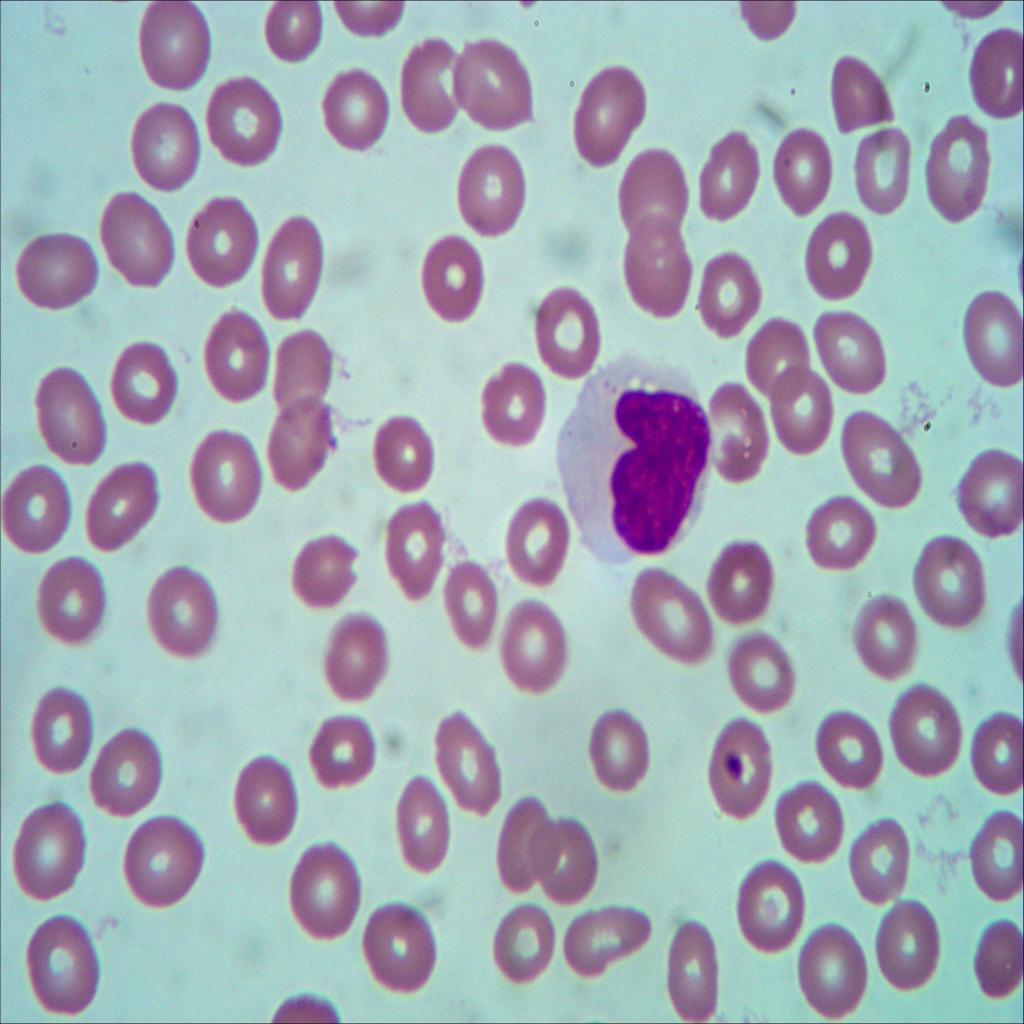Eritrosit: (828, 406, 936, 520), (566, 60, 655, 182), (441, 35, 538, 144), (424, 698, 509, 822), (618, 561, 717, 666), (183, 422, 274, 536), (354, 890, 443, 1006), (31, 355, 116, 471), (92, 186, 180, 298), (122, 0, 225, 95), (556, 904, 659, 999), (18, 916, 115, 1016), (197, 65, 284, 176), (899, 517, 989, 623), (690, 710, 778, 818), (448, 141, 533, 252), (781, 918, 869, 1024), (794, 202, 888, 298), (704, 536, 781, 652), (122, 97, 207, 201), (78, 456, 168, 554), (275, 525, 373, 614), (385, 35, 465, 143), (384, 763, 461, 875), (226, 753, 308, 858), (844, 804, 919, 918), (117, 820, 215, 907), (957, 284, 1024, 410), (774, 760, 849, 869), (15, 801, 94, 904), (625, 208, 697, 320), (8, 227, 102, 312), (954, 19, 1024, 133), (923, 113, 990, 230), (700, 374, 768, 488), (82, 725, 168, 815), (893, 679, 968, 782), (185, 194, 261, 295), (260, 210, 325, 328), (698, 252, 774, 352), (528, 281, 607, 377), (798, 496, 884, 584), (768, 122, 842, 224), (28, 556, 108, 650), (719, 628, 800, 720), (815, 48, 899, 136), (365, 410, 440, 508), (320, 64, 392, 166), (616, 146, 695, 238), (810, 300, 888, 393), (377, 500, 448, 602), (286, 848, 361, 944), (421, 234, 493, 334), (664, 912, 728, 1024), (32, 679, 105, 777), (811, 709, 887, 803), (843, 117, 914, 217), (108, 325, 181, 422), (854, 593, 927, 690), (766, 365, 842, 458), (725, 856, 805, 944), (951, 809, 1024, 905), (315, 612, 387, 709), (529, 816, 601, 912), (147, 568, 221, 661), (694, 130, 764, 228), (874, 899, 943, 997), (474, 354, 544, 450), (590, 704, 655, 807), (959, 449, 1024, 552), (267, 402, 341, 492), (296, 712, 378, 793), (2, 460, 71, 556), (499, 610, 578, 693), (202, 302, 271, 396), (268, 323, 334, 417), (485, 894, 550, 988), (498, 786, 554, 894), (502, 498, 566, 585), (444, 556, 500, 650), (970, 701, 1024, 796), (966, 918, 1024, 1005), (746, 318, 810, 396), (261, 0, 323, 78)
Monosit: (549, 352, 715, 574)
Platelet: (719, 745, 743, 777)
